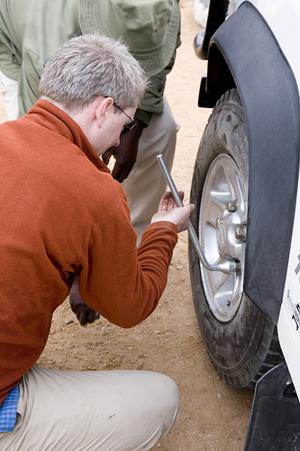person: (2, 32, 195, 450)
